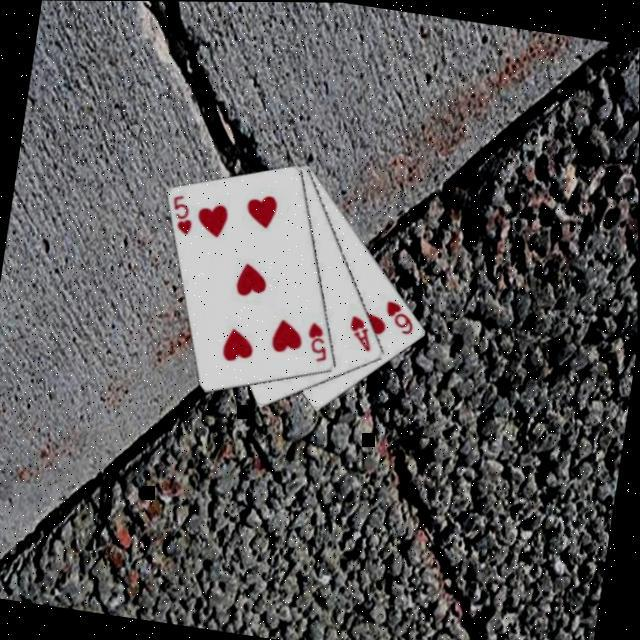5H: (168, 193, 202, 240), (304, 320, 336, 368)
6H: (382, 298, 422, 340)
AH: (345, 314, 380, 356)
